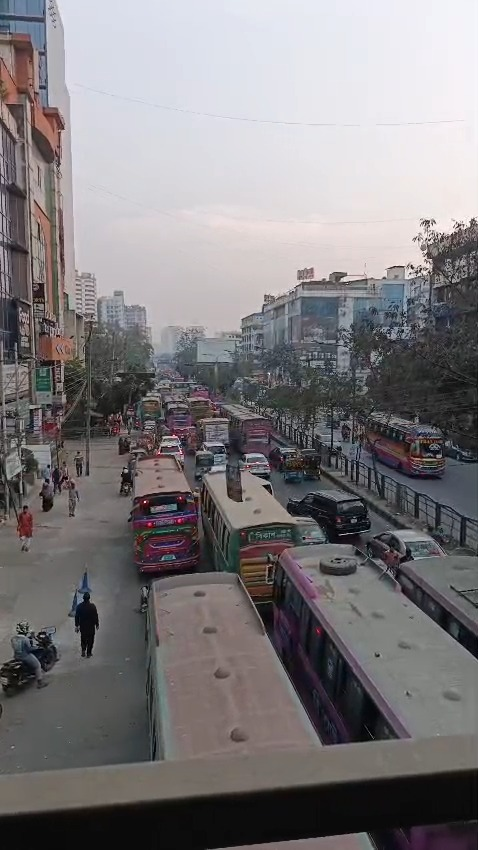Bus: (142, 531, 478, 758), (198, 462, 296, 580), (127, 449, 203, 569), (365, 410, 449, 480)
auto-ricksaw: (299, 446, 325, 482)
private car: (285, 486, 377, 538), (239, 450, 273, 480)
